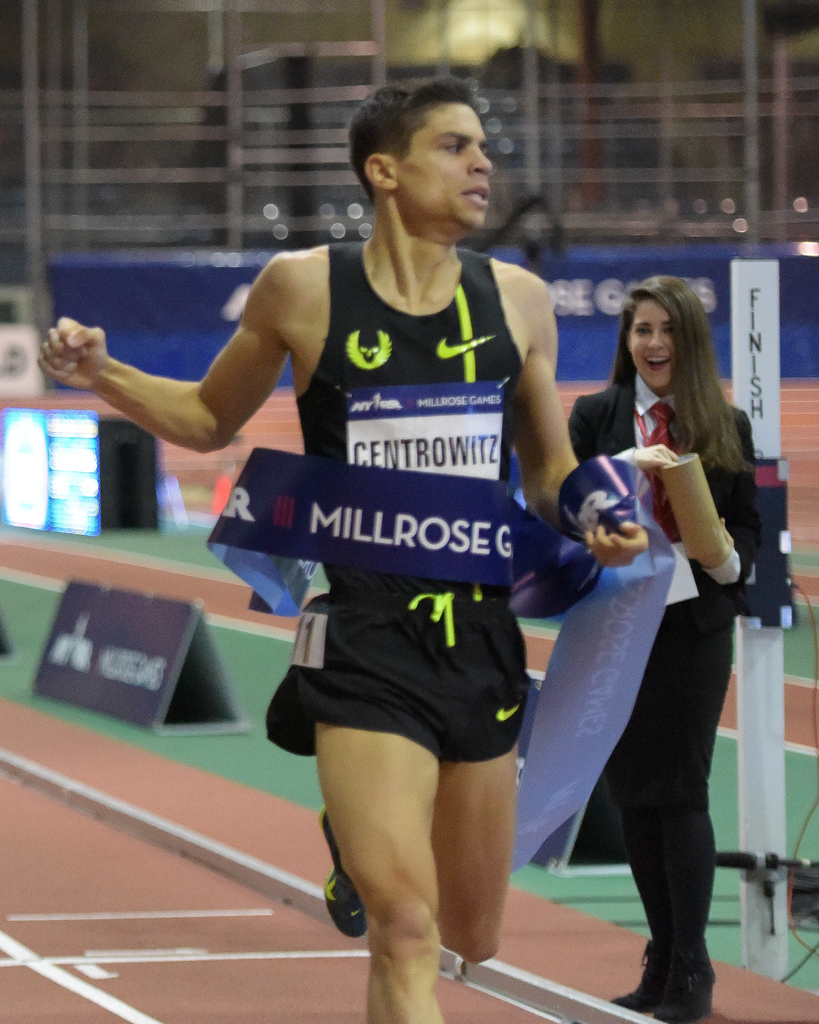Human-face: (386, 95, 496, 220), (611, 288, 688, 395)
